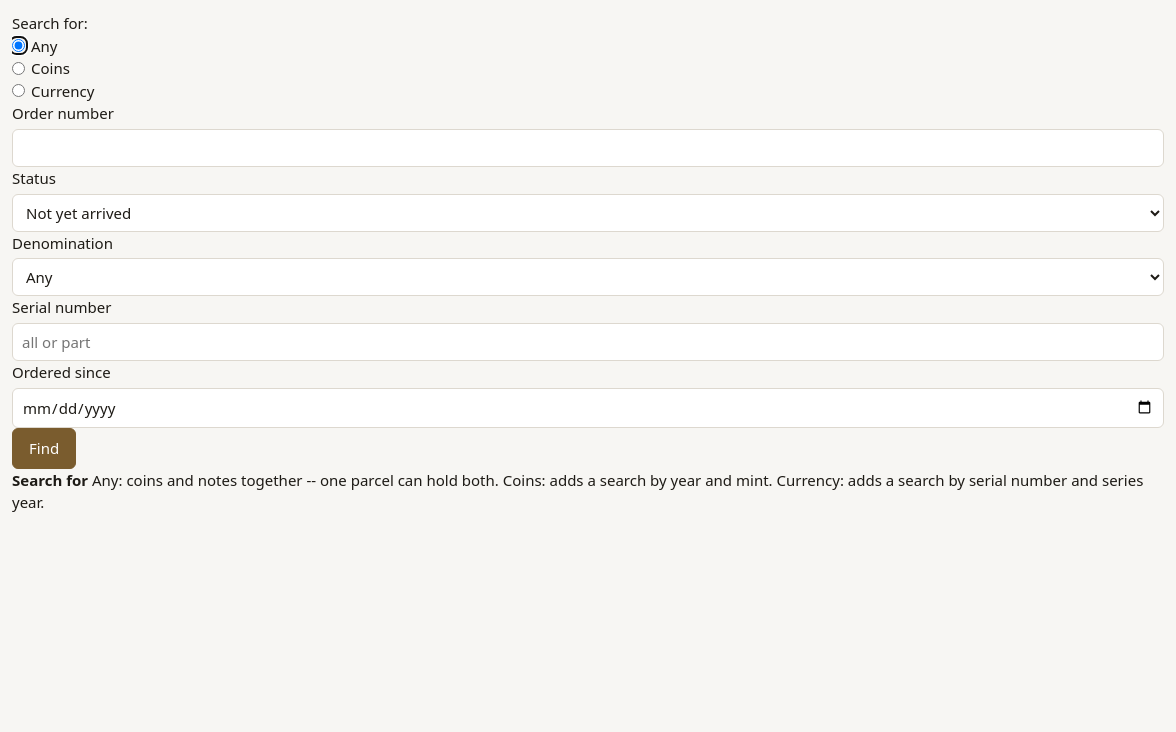
ItemFinder › explains the order number field when it has focus
What coordinates should you click on to do the following:
click the field labelled "Order number"
I would click on:
 (588, 148)
Its box is [12,128,1164,167].
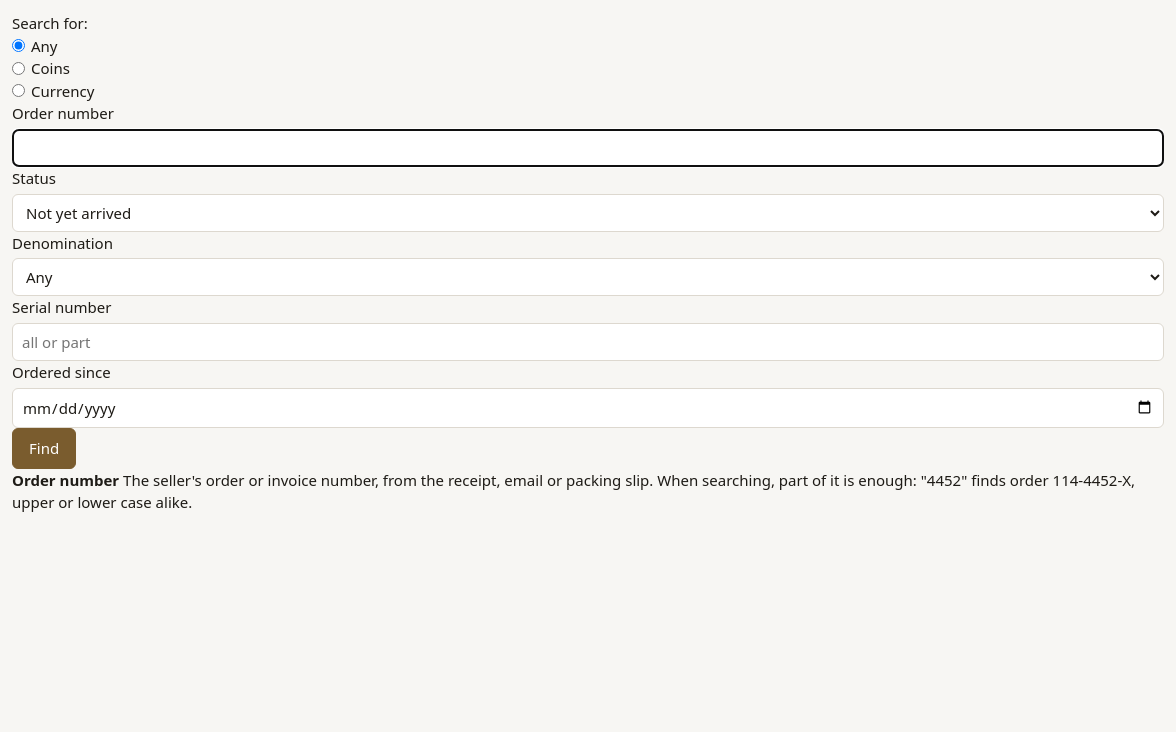
Expected: the text "part of it is enough" is shown, [12,470,1135,512]
